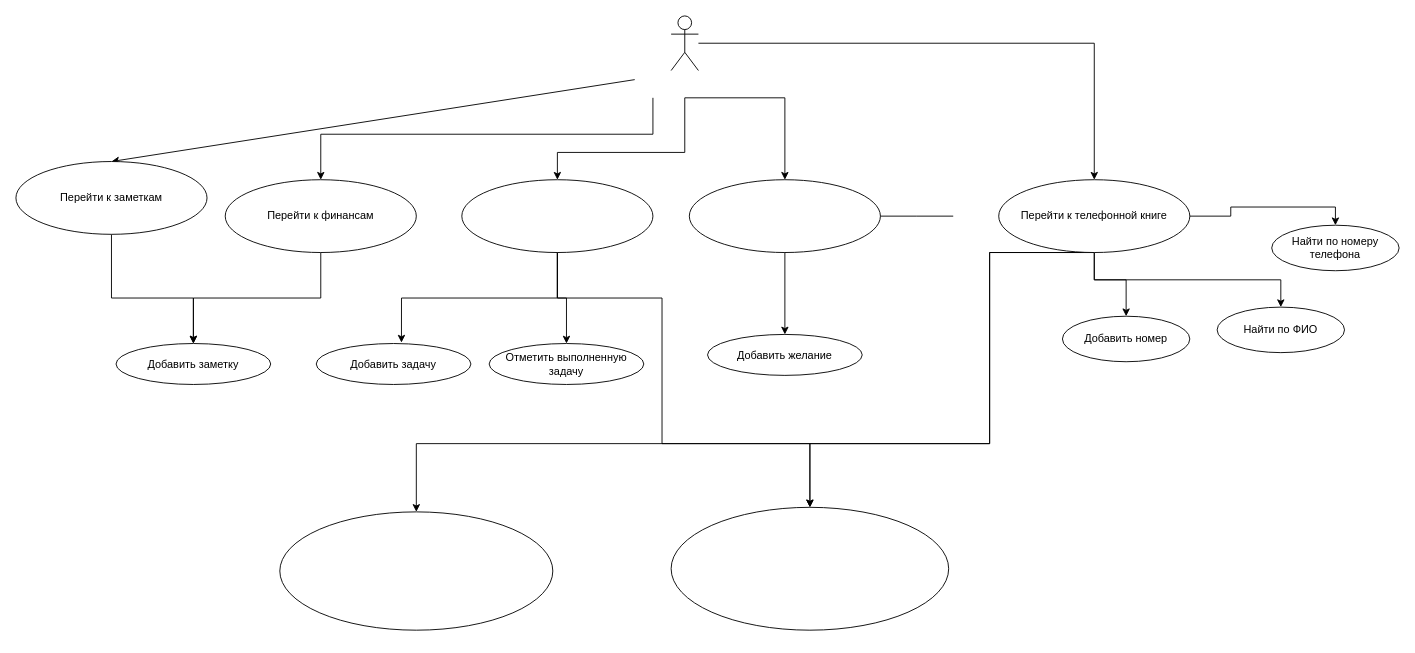
This 1415x653 diagram has some shape labels left out. Each missing label, with the centre of its shape:
Записать данные в базу данных: (809,568)
Перейти к желаниям: (784,216)
Перейти к задачам: (557,216)
Пользователь: (684,43)
Прочесть данные из базы данных: (416,570)
